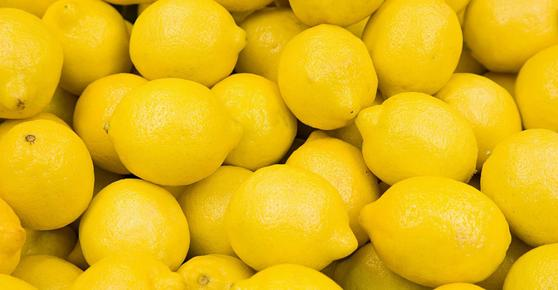lemon: (102, 77, 246, 181), (350, 85, 482, 188), (271, 23, 381, 131)
